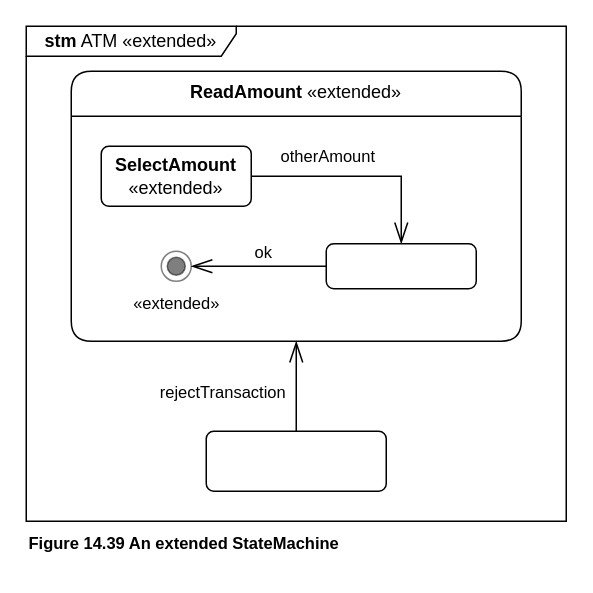
The diagram is 593 pixels wide and 593 high, and some of its shapes have lost their labels. The centre of each missing label's shape, as x and y in pixels:
"EnterAmount" belongs at [400,265].
"VerifyTransaction «extended»" belongs at [295,460].
